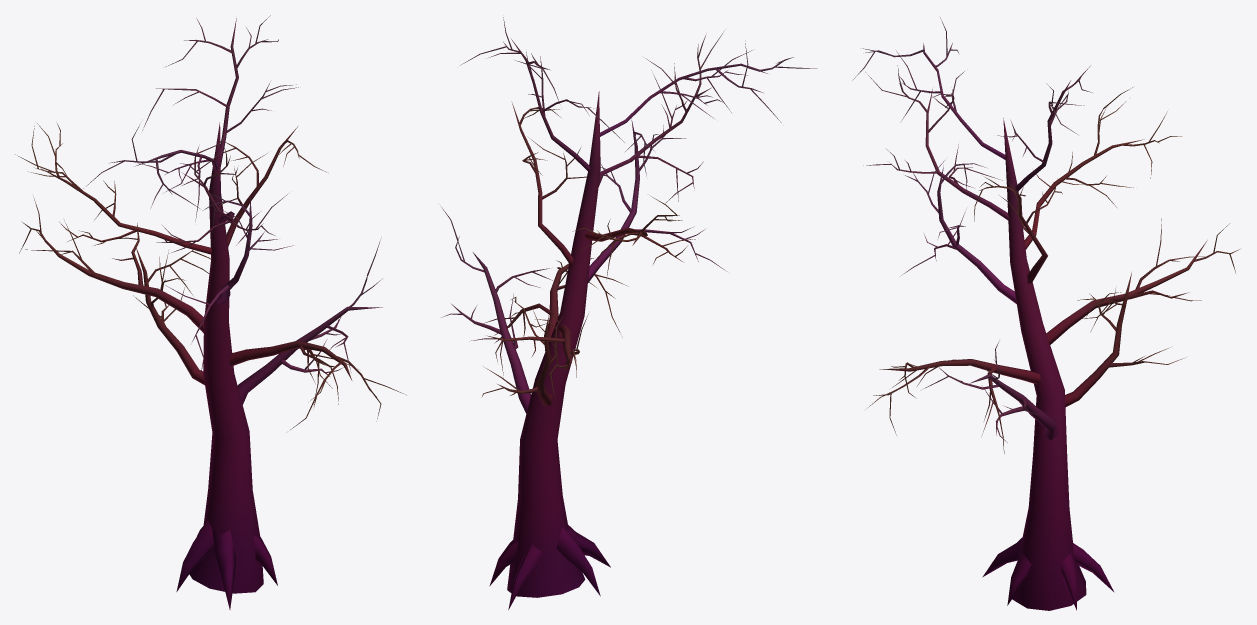
File: dead_a.glb
3 renders of one model, left to right at view 1: azimuth 30°, elevation 25°; view 2: azimuth 150°, elevation 25°; view 3: azimuth 270°, elevation 25°, orthographic. The views are drawn at different scales.
Parts seen in each view (by area): view 1: dead_a_LOD0; view 2: dead_a_LOD0; view 3: dead_a_LOD0.
Part boxes in pixels (left/top/right/bottom): dead_a_LOD0: left=15, top=15, right=405, bottom=609; dead_a_LOD0: left=441, top=17, right=817, bottom=609; dead_a_LOD0: left=852, top=17, right=1239, bottom=610.
Size of what is drawn, in the model's own units: 4.76 by 7.9 by 5.23.
